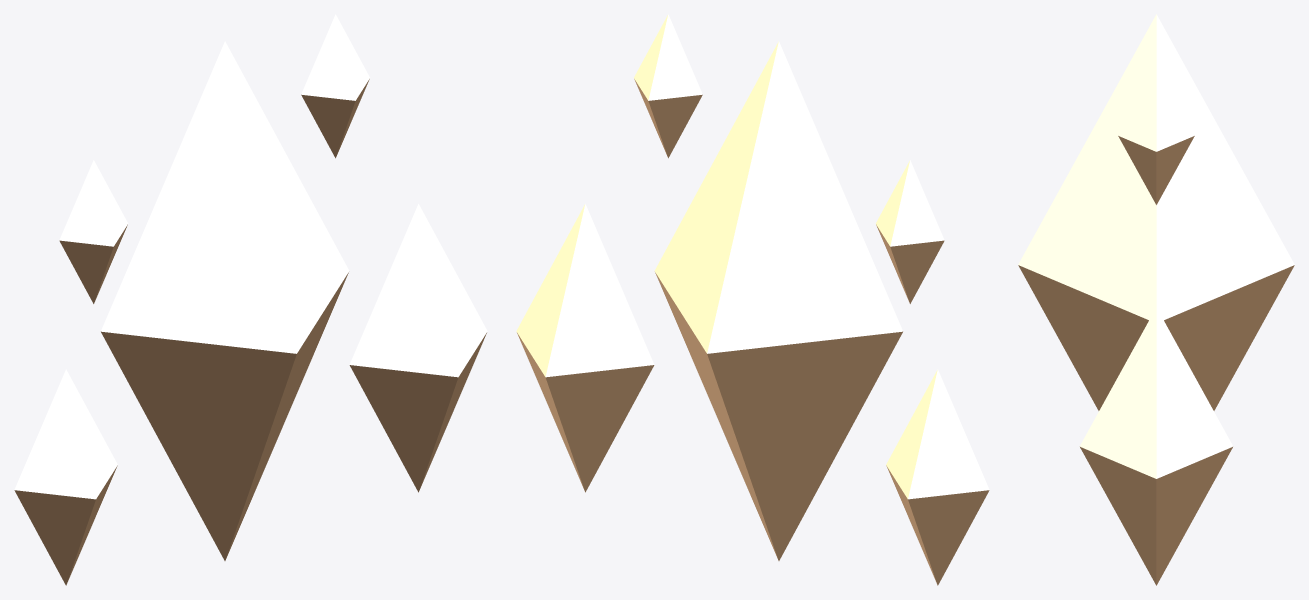
The model's file is meadow-courier-delivery-reward-sparkle__48.glb.
3 renders of one model, left to right at view 1: azimuth 30°, elevation 25°; view 2: azimuth 150°, elevation 25°; view 3: azimuth 270°, elevation 25°, orthographic. The views are drawn at different scales.
Parts seen in each view (by area): view 1: meadow-courier-delivery-sparkle; view 2: meadow-courier-delivery-sparkle; view 3: meadow-courier-delivery-sparkle.
Boxes of the visible parts, x1,y1,x2,y2 form: meadow-courier-delivery-sparkle: [14, 14, 487, 585]; meadow-courier-delivery-sparkle: [516, 14, 989, 585]; meadow-courier-delivery-sparkle: [1018, 14, 1294, 585].
Size of the model in its own units: 0.685 by 0.72 by 0.36.
